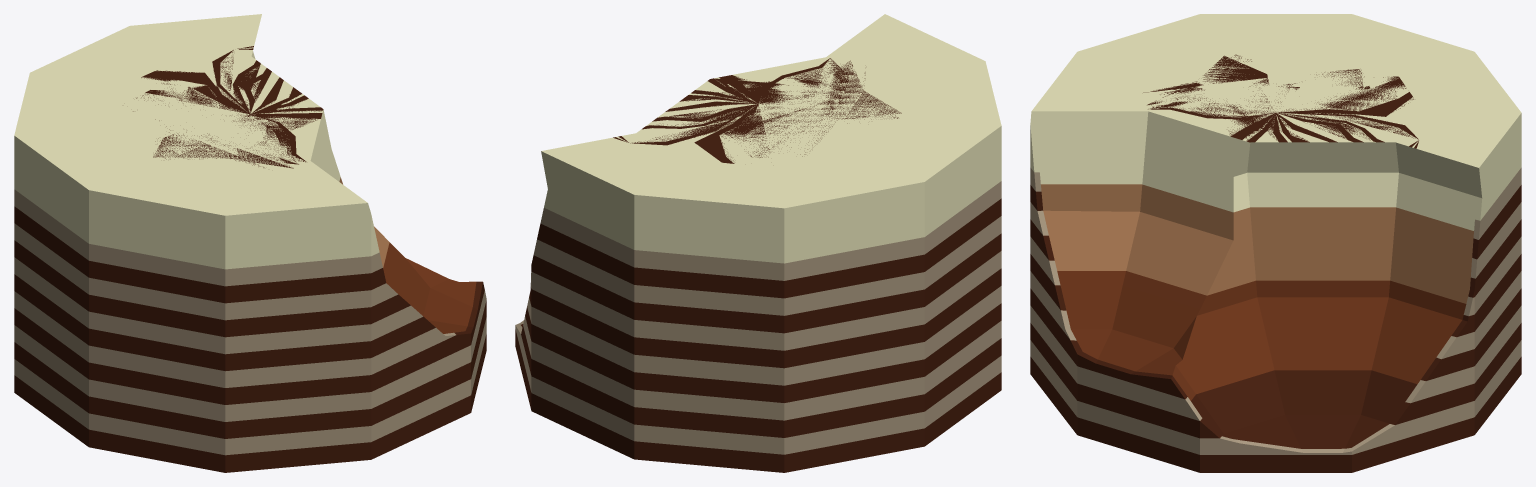
The model's file is TripleChocolateState2.fbx.
3 views of the same model, side by side, from view 1: azimuth 30°, elevation 25°; view 2: azimuth 150°, elevation 25°; view 3: azimuth 270°, elevation 25° (orthographic). The views are drawn at different scales.
Parts seen in each view (by area): view 1: TripleChocolateState2; view 2: TripleChocolateState2; view 3: TripleChocolateState2.
Part boxes in pixels (x1,y1,x2,y2): TripleChocolateState2: [14, 14, 486, 472]; TripleChocolateState2: [515, 14, 1001, 472]; TripleChocolateState2: [1030, 14, 1521, 472].
Bounding box in the file's own units: 76.08 × 47 × 80.
